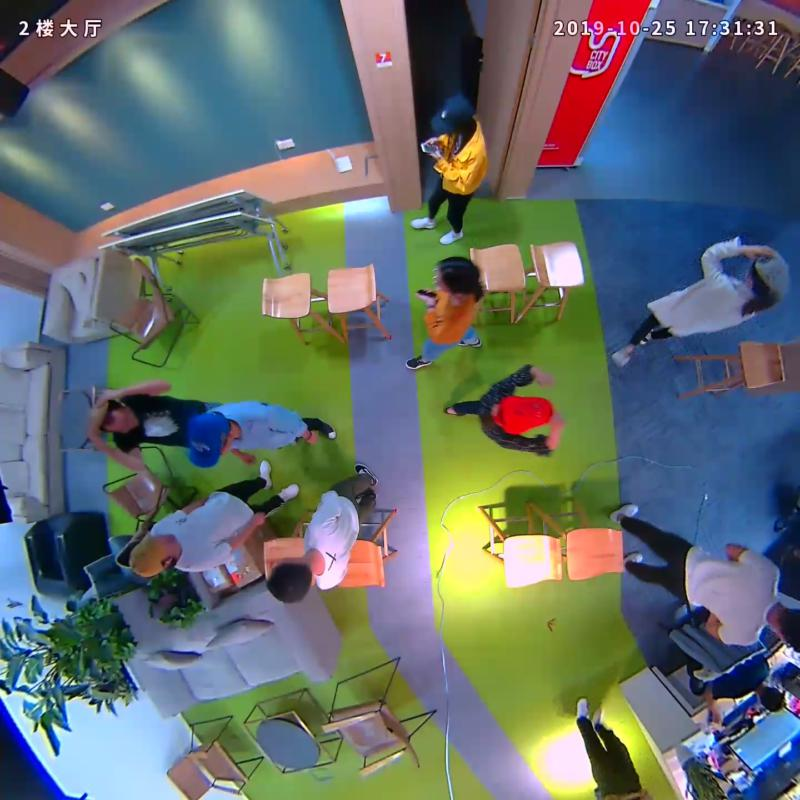head: (185, 411, 235, 468), (493, 394, 553, 435), (267, 556, 316, 605), (743, 252, 791, 301), (127, 531, 177, 577), (430, 92, 474, 137), (433, 257, 481, 296), (93, 398, 137, 435)
